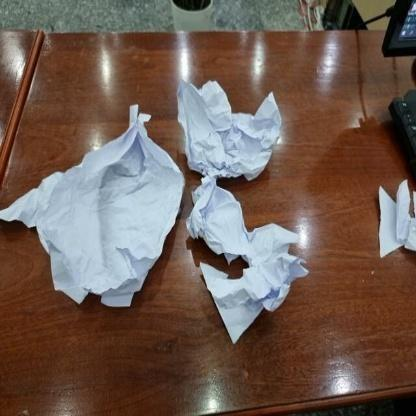trash: (3, 104, 184, 314), (184, 171, 311, 347), (171, 75, 284, 179), (369, 179, 416, 261)
